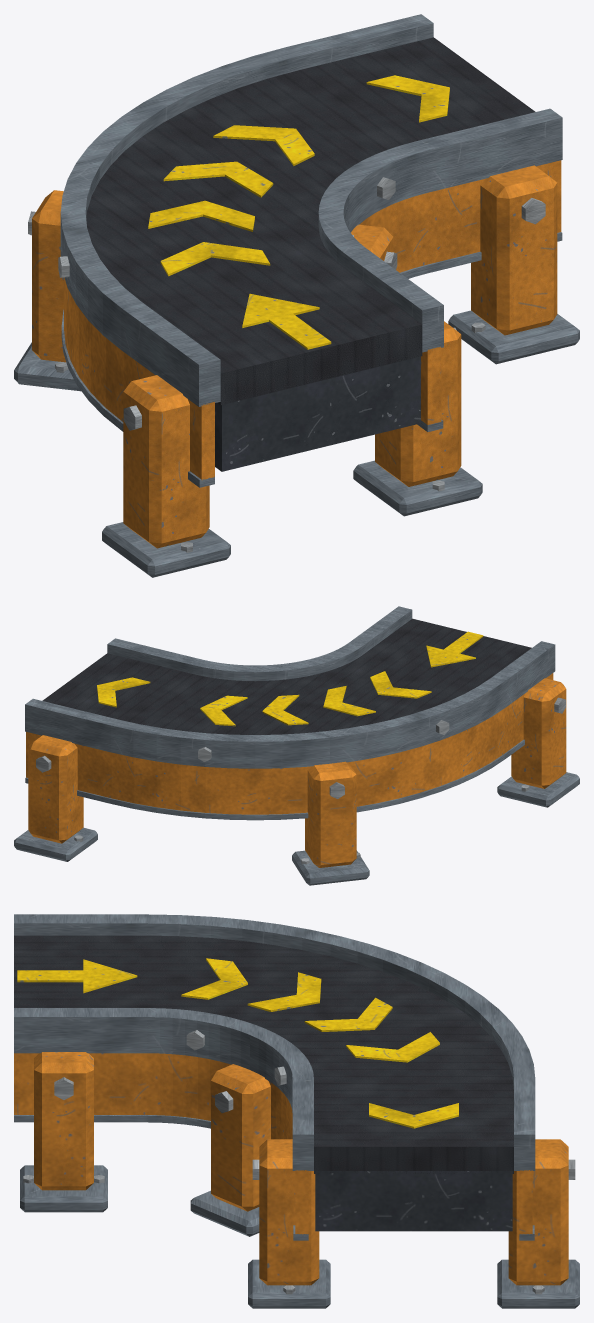
File: conveyor_curve.glb
3 renders of one model, top to bottom at view 1: azimuth 30°, elevation 25°; view 2: azimuth 150°, elevation 25°; view 3: azimuth 270°, elevation 25°, orthographic. The views are drawn at different scales.
Parts seen in each view (by area): view 1: ConveyorCurve_Belt, ConveyorCurve_SteelGrey, ConveyorCurve_Orange, ConveyorCurve_DarkGrey, ConveyorCurve_Yellow, ConveyorCurve_SteelLight; view 2: ConveyorCurve_Orange, ConveyorCurve_SteelGrey, ConveyorCurve_Belt, ConveyorCurve_Yellow, ConveyorCurve_SteelLight; view 3: ConveyorCurve_Belt, ConveyorCurve_SteelGrey, ConveyorCurve_Orange, ConveyorCurve_DarkGrey, ConveyorCurve_Yellow, ConveyorCurve_SteelLight.
Boxes of the visible parts, <box> form: ConveyorCurve_Belt: <box>86,37,535,405</box>; ConveyorCurve_SteelGrey: <box>14,14,579,577</box>; ConveyorCurve_Orange: <box>32,160,561,548</box>; ConveyorCurve_DarkGrey: <box>215,356,420,471</box>; ConveyorCurve_Yellow: <box>148,75,449,349</box>; ConveyorCurve_SteelLight: <box>28,177,545,552</box>; ConveyorCurve_Orange: <box>26,673,566,867</box>; ConveyorCurve_SteelGrey: <box>14,606,579,885</box>; ConveyorCurve_Belt: <box>42,618,531,734</box>; ConveyorCurve_Yellow: <box>97,631,483,726</box>; ConveyorCurve_SteelLight: <box>36,697,565,864</box>; ConveyorCurve_Belt: <box>14,935,513,1173</box>; ConveyorCurve_SteelGrey: <box>14,914,579,1308</box>; ConveyorCurve_Orange: <box>14,1052,568,1285</box>; ConveyorCurve_DarkGrey: <box>315,1171,512,1231</box>; ConveyorCurve_Yellow: <box>17,958,458,1128</box>; ConveyorCurve_SteelLight: <box>23,1030,575,1294</box>.
Bounding box in the file's own units: 8.49 × 2.95 × 8.49.
Materials: 6 (6 with a texture image).
